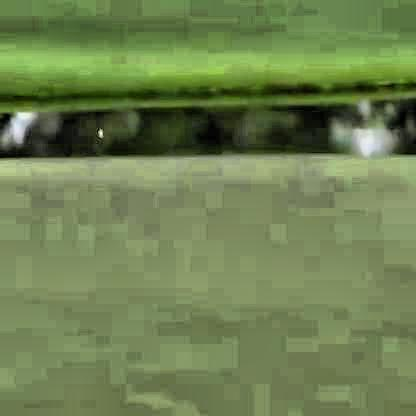golfball: (95, 123, 102, 134)
